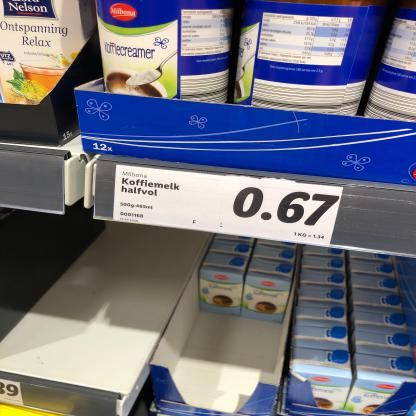prtg: (114, 166, 345, 248)
